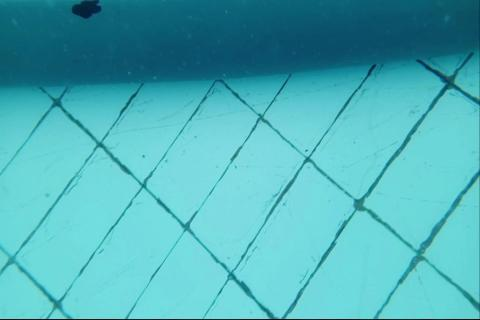kebocoran: (70, 0, 103, 20)
